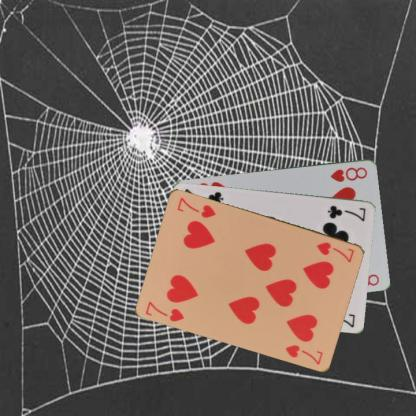7c: (326, 202, 368, 223)
7h: (314, 239, 356, 264), (144, 298, 186, 323)
8h: (328, 164, 369, 183)
